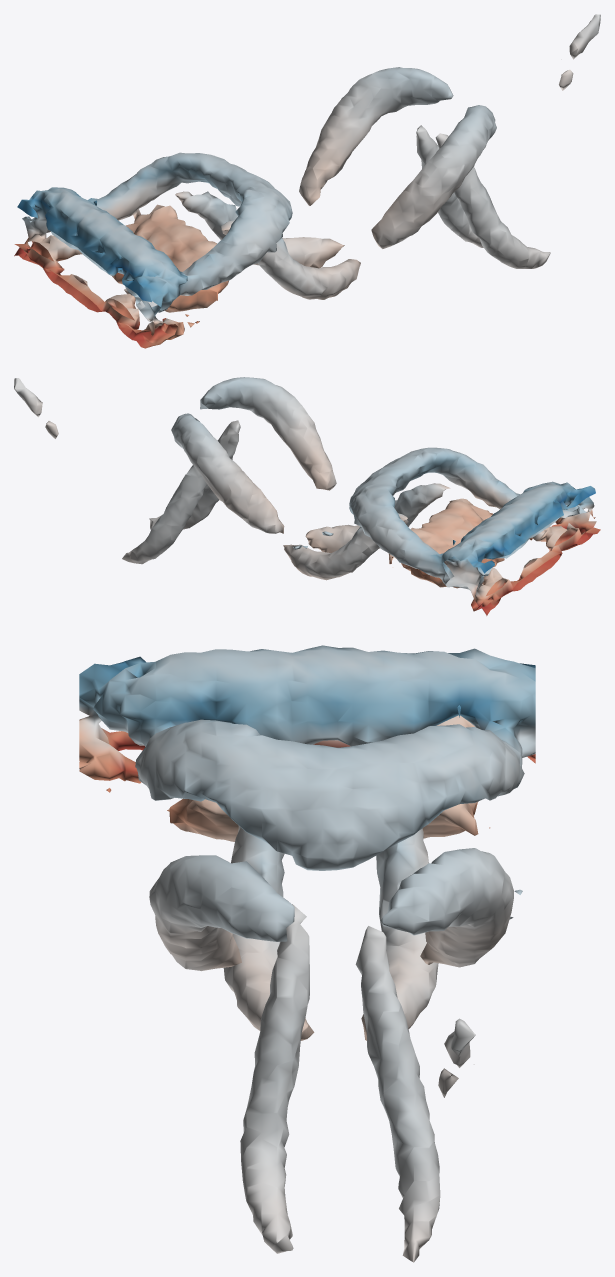
3 renders of one model, top to bottom at view 1: azimuth 30°, elevation 25°; view 2: azimuth 150°, elevation 25°; view 3: azimuth 270°, elevation 25°, orthographic. The views are drawn at different scales.
Size of the model in its own units: 6.22 by 2.04 by 2.5.
